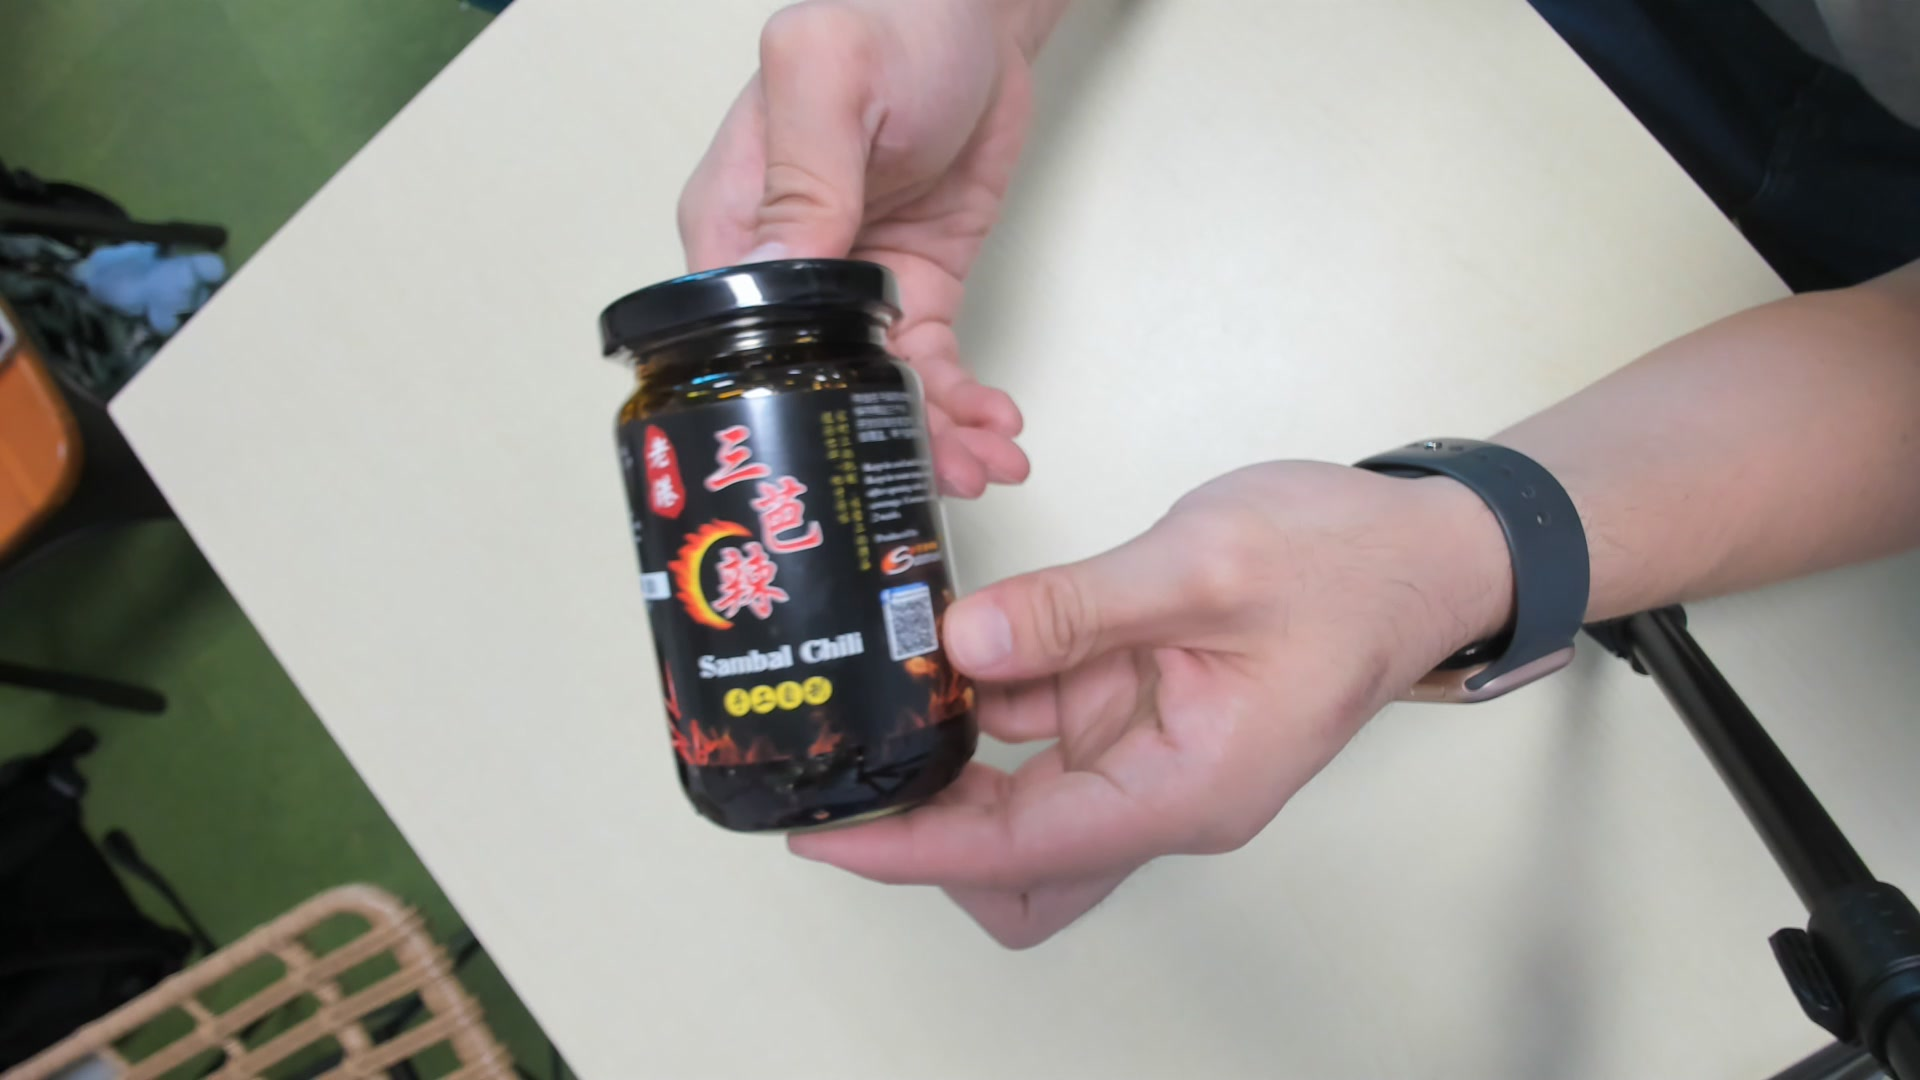OtherSauceDressing_300-399g_NonHalal_NonHealthy: (597, 251, 982, 833)
